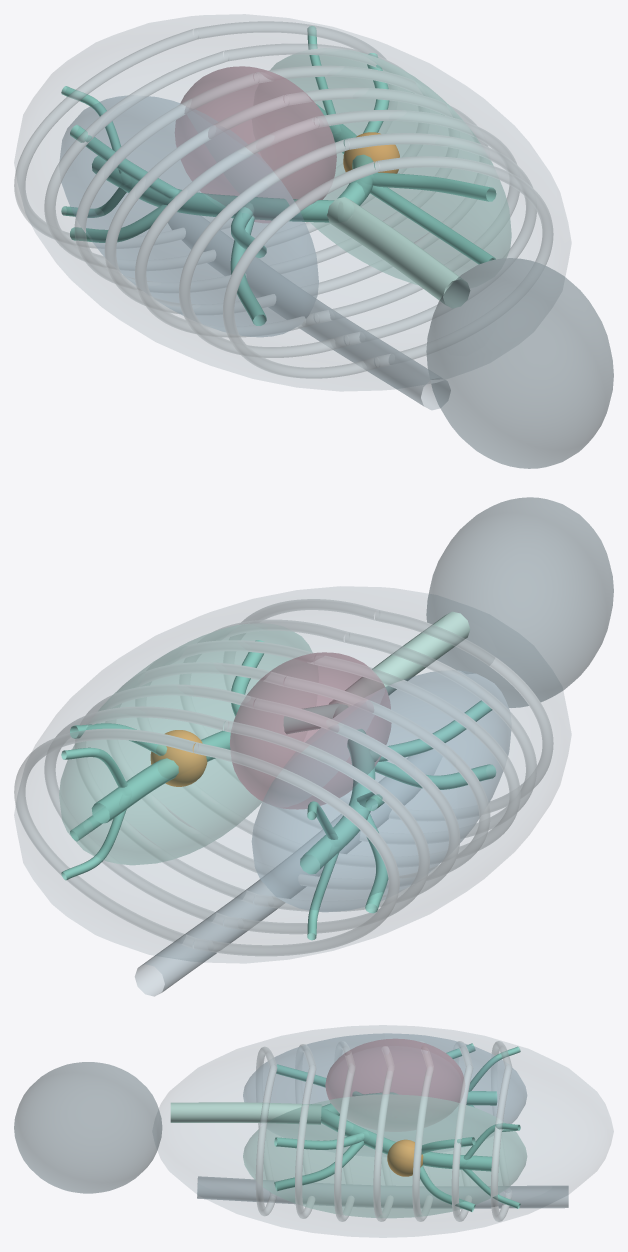
The model's file is thorax-airways.glb.
3 views of the same model, one above another, from view 1: azimuth 30°, elevation 25°; view 2: azimuth 150°, elevation 25°; view 3: azimuth 270°, elevation 25° (orthographic). The views are drawn at different scales.
Parts seen in each view (by area): view 1: Authored thorax and airway, Schematic right lung, Schematic left lung, Teaching lesion; view 2: Authored thorax and airway, Schematic right lung, Schematic left lung, Teaching lesion; view 3: Authored thorax and airway, Schematic left lung, Schematic right lung, Teaching lesion.
Part boxes in pixels (left/top/right/bottom): Authored thorax and airway: left=14, top=14, right=613, bottom=468; Schematic right lung: left=60, top=95, right=318, bottom=336; Schematic left lung: left=270, top=49, right=511, bottom=284; Teaching lesion: left=343, top=132, right=399, bottom=173; Authored thorax and airway: left=14, top=497, right=613, bottom=996; Schematic right lung: left=252, top=670, right=510, bottom=911; Schematic left lung: left=59, top=624, right=311, bottom=864; Teaching lesion: left=150, top=730, right=207, bottom=786; Authored thorax and airway: left=14, top=1025, right=613, bottom=1237; Schematic left lung: left=243, top=1094, right=526, bottom=1217; Schematic right lung: left=243, top=1033, right=526, bottom=1123; Teaching lesion: left=387, top=1139, right=423, bottom=1176.
Size of the model in its own units: 0.156 by 0.088 by 0.291.
